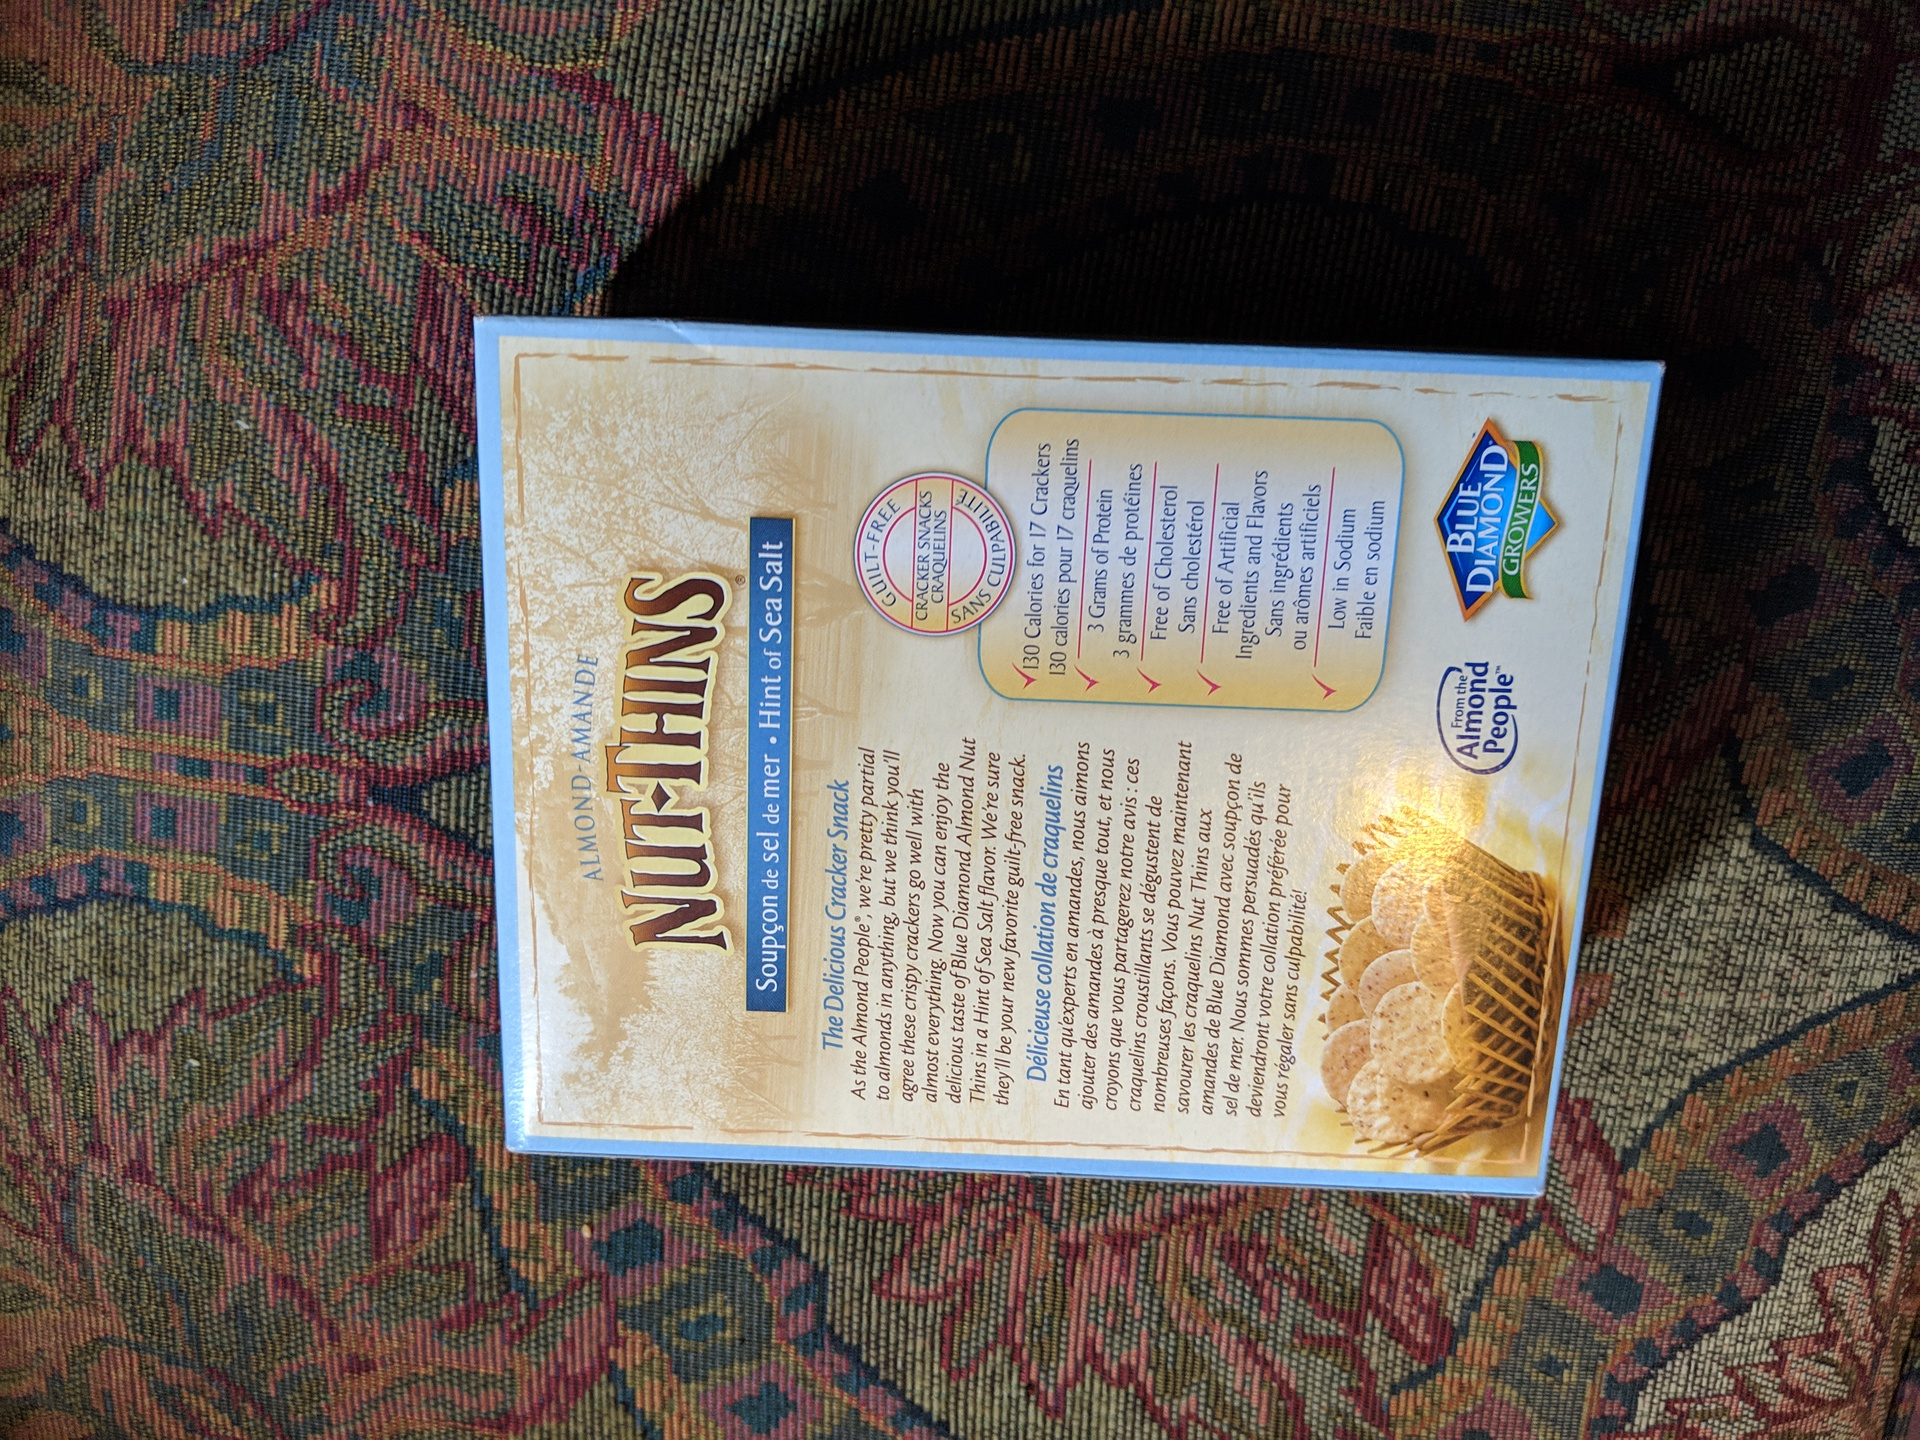blue_diamond_nut_thins_almond_seasalt: (476, 318, 1554, 1187)
